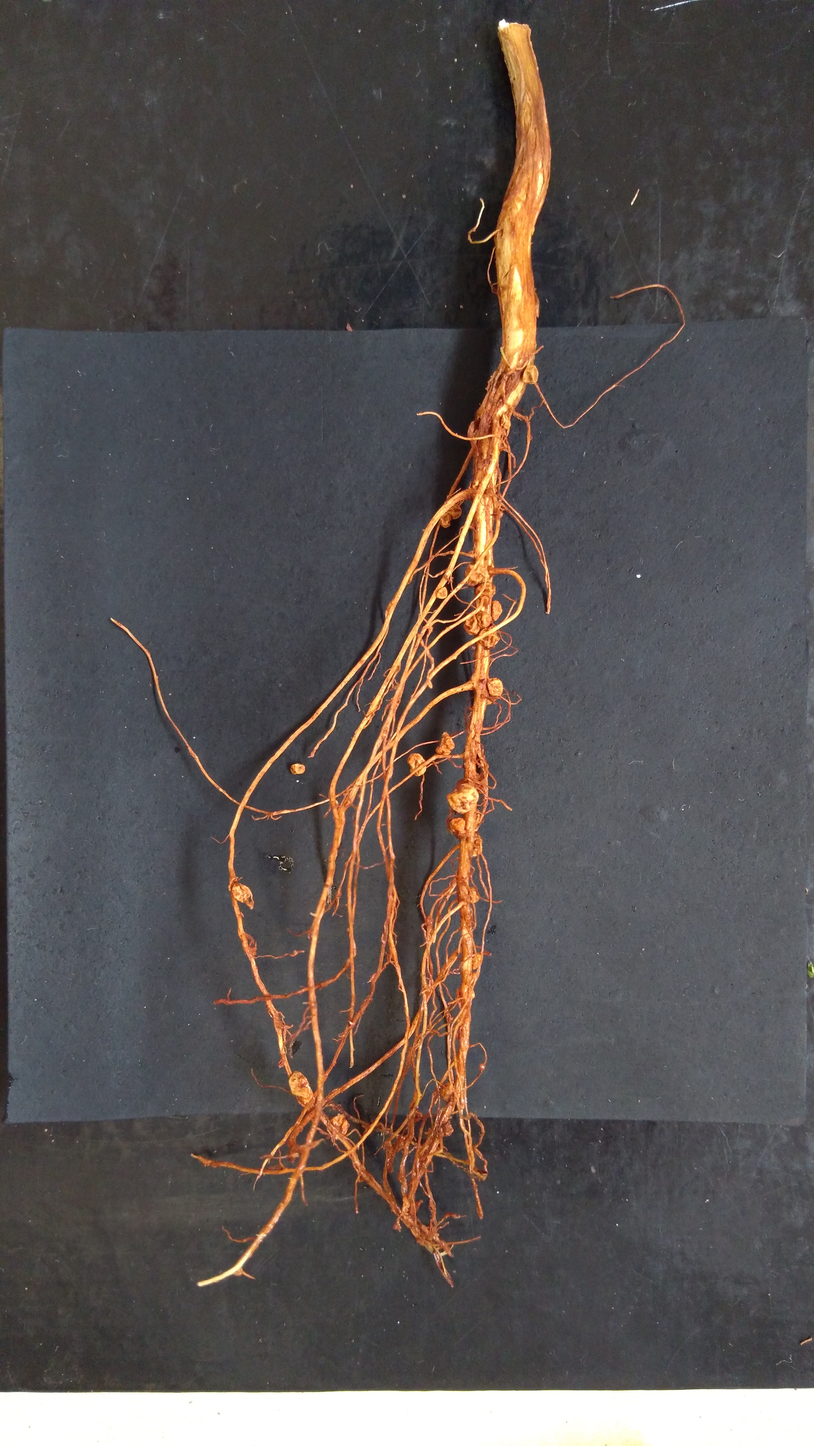nodule: (445, 782, 480, 815), (287, 1070, 314, 1105), (462, 610, 491, 637), (230, 882, 257, 910), (327, 1112, 351, 1140), (463, 563, 487, 587), (434, 731, 457, 756), (406, 752, 429, 777), (478, 627, 501, 650), (446, 817, 467, 840), (521, 364, 541, 387), (473, 581, 496, 600), (487, 676, 504, 698), (439, 1081, 455, 1104), (471, 831, 484, 858), (445, 503, 463, 521), (491, 600, 503, 623), (467, 886, 481, 905), (289, 762, 307, 776), (471, 953, 483, 972), (499, 413, 513, 429), (439, 512, 452, 529), (435, 586, 449, 600), (443, 1122, 454, 1137)
